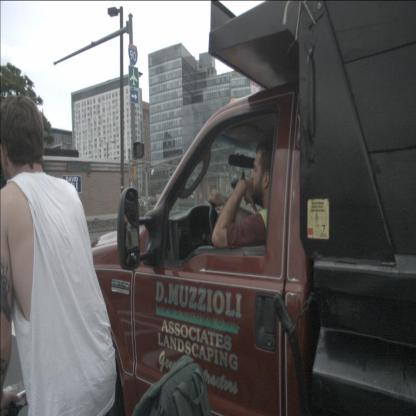vehicle-bicycle: (0, 94, 213, 415)
vehicle-truck: (59, 0, 416, 416)
